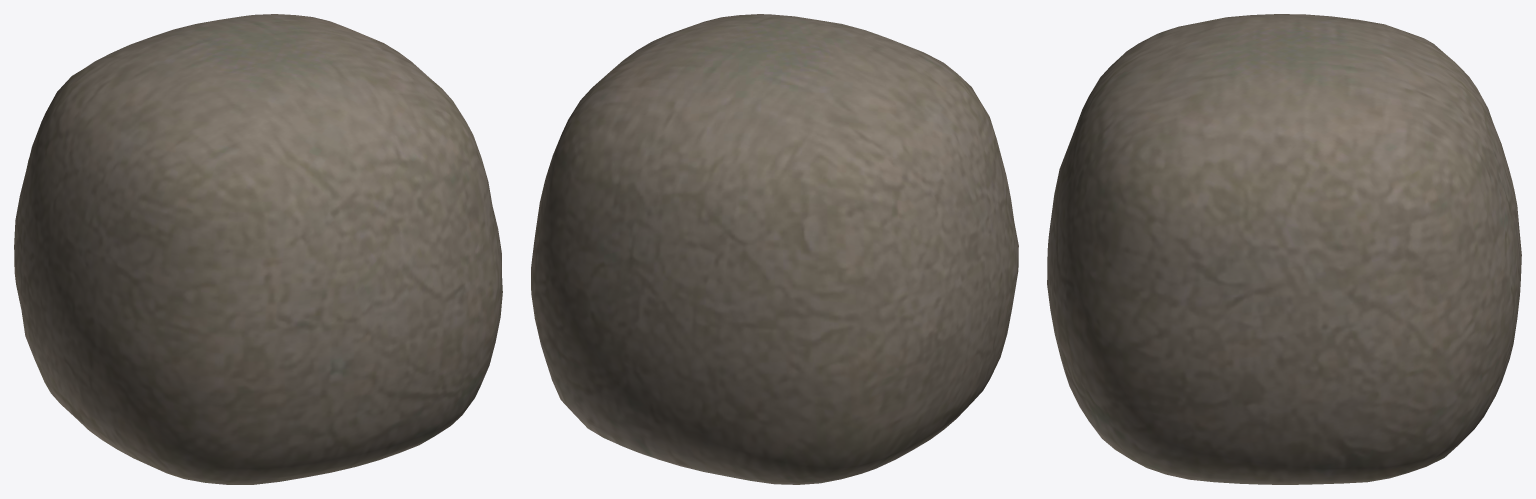
The model's file is stone_01.glb.
3 renders of one model, left to right at view 1: azimuth 30°, elevation 25°; view 2: azimuth 150°, elevation 25°; view 3: azimuth 270°, elevation 25°, orthographic. The views are drawn at different scales.
Parts seen in each view (by area): view 1: mesh; view 2: mesh; view 3: mesh.
Boxes of the visible parts, left/top/right/bottom form: mesh: left=14, top=14, right=502, bottom=484; mesh: left=531, top=14, right=1018, bottom=484; mesh: left=1047, top=14, right=1521, bottom=484.
Bounding box in the file's own units: 0.9967 × 0.8945 × 0.9954.
Materials: 1 (1 with a texture image).
